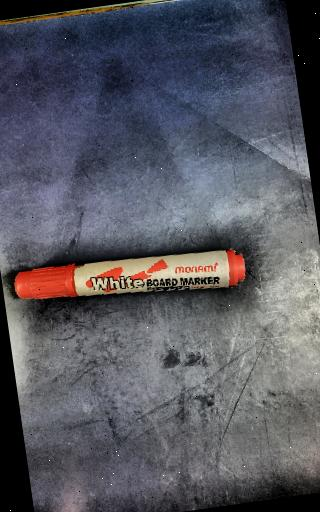marcador rojo: (15, 249, 245, 299)
